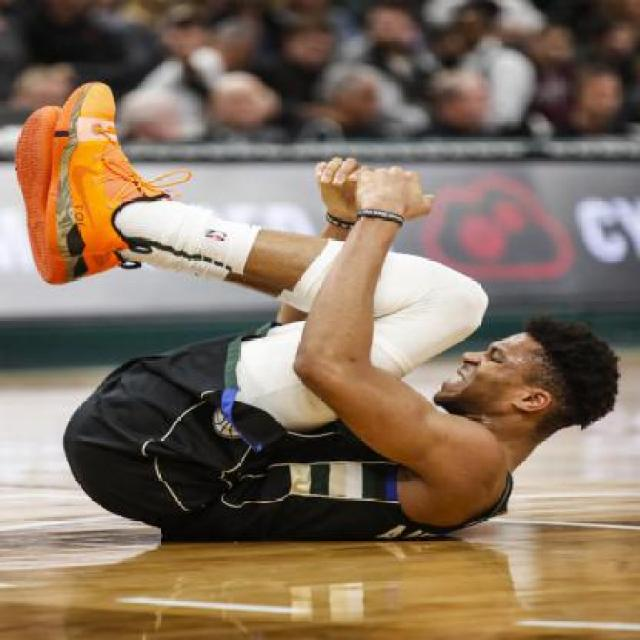fall: (31, 66, 614, 568)
